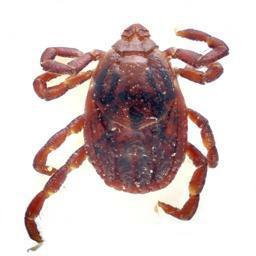Rhipicephalus sanguineus: (25, 22, 229, 253)
